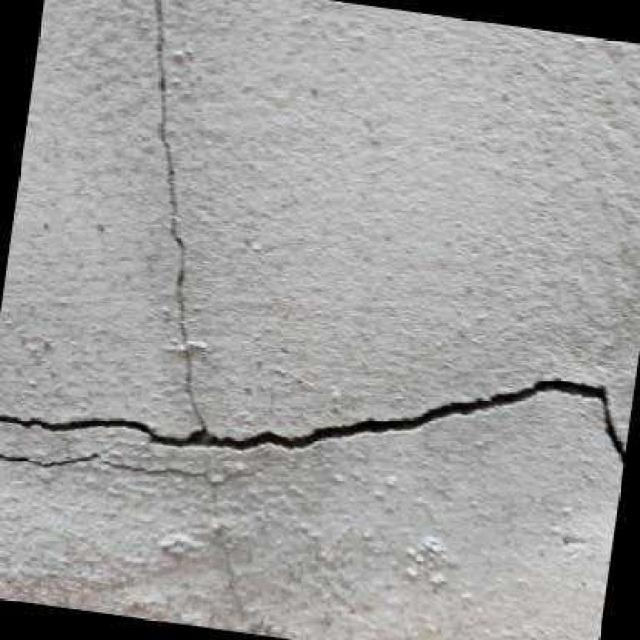D00: (0, 0, 625, 469), (0, 451, 204, 475)
